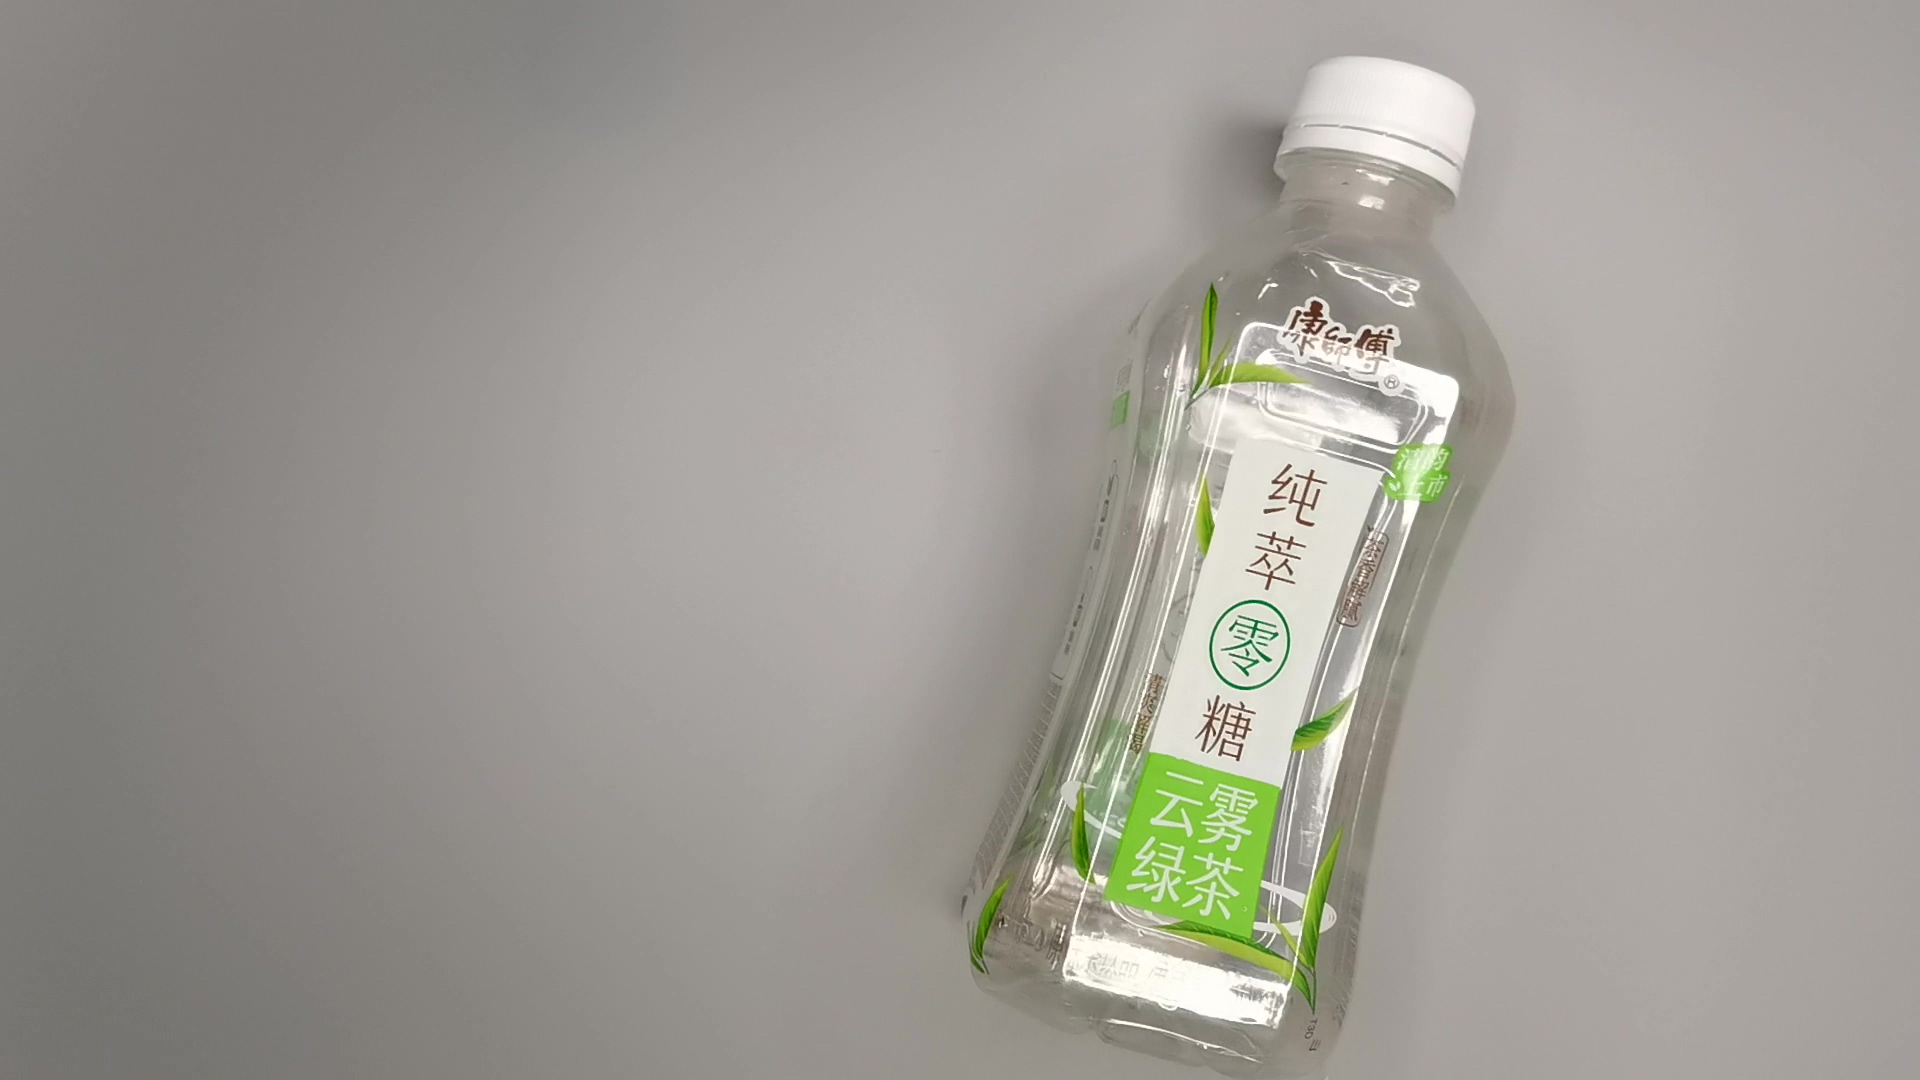bottle: (960, 51, 1524, 1080)
